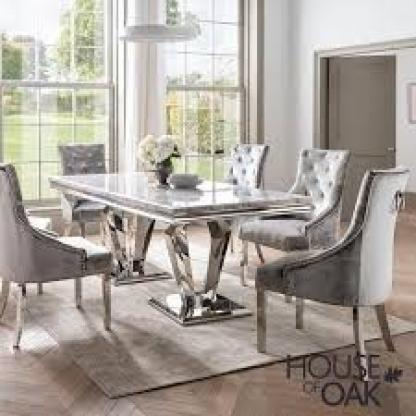Dining Table: (4, 28, 410, 367)
Window: (0, 0, 118, 234), (128, 0, 260, 200)
